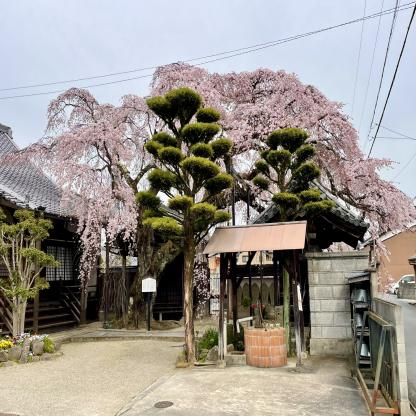ShidareZakura: (0, 61, 416, 326)
